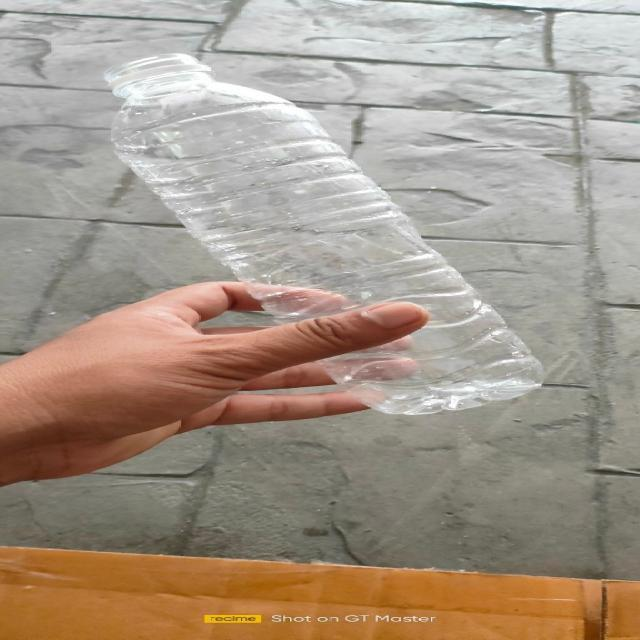plastic_bottle: (108, 54, 548, 414)
